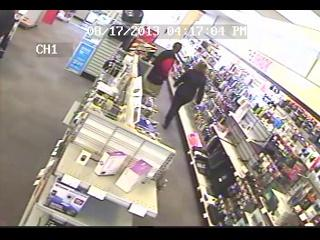Normal: (162, 63, 208, 130), (142, 42, 183, 107), (0, 11, 16, 52)
